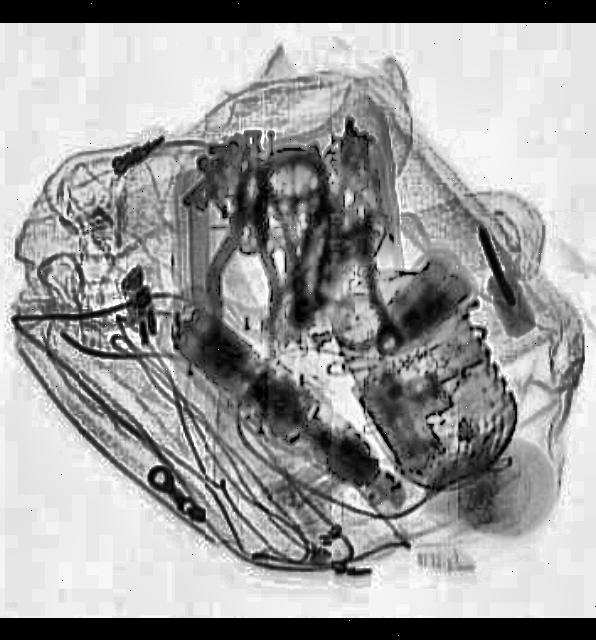Pliers: (201, 162, 289, 336)
Wrench: (340, 194, 404, 356)
